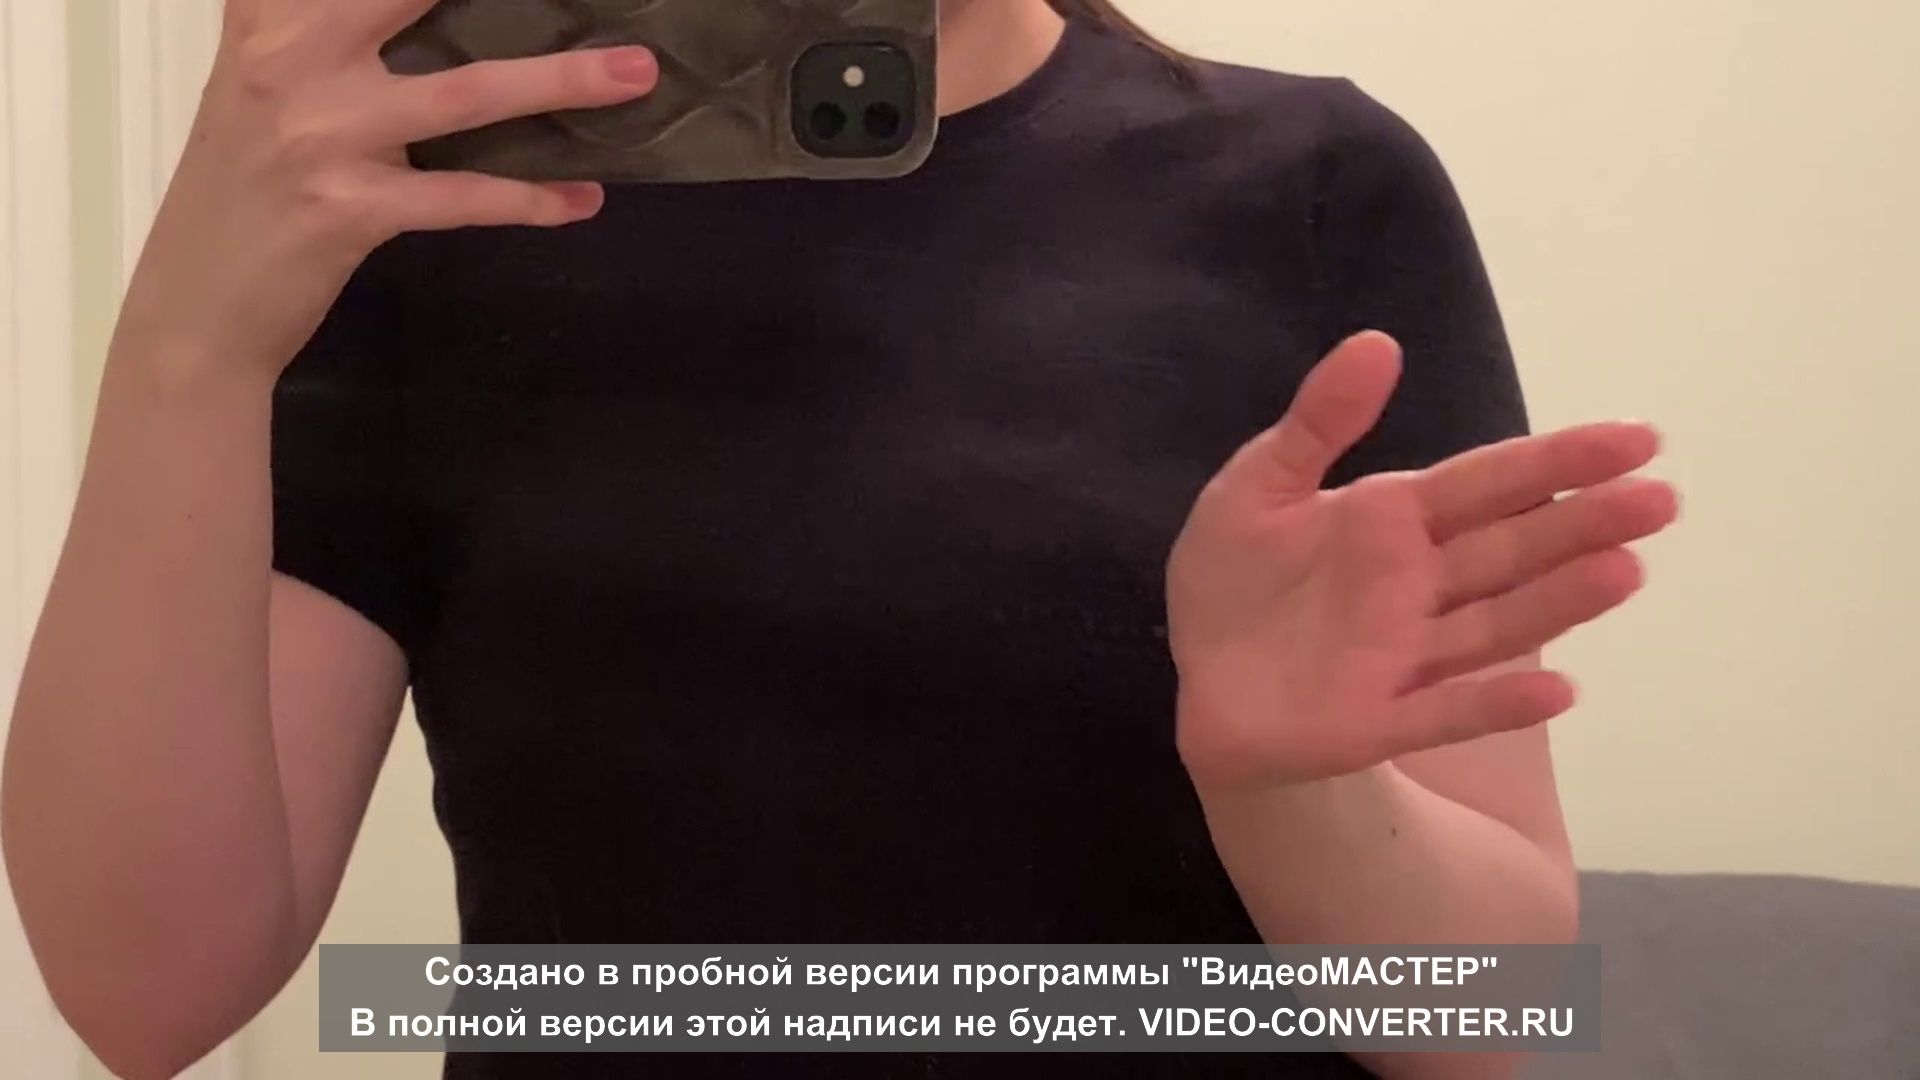Ладонь: (1164, 331, 1685, 769)
